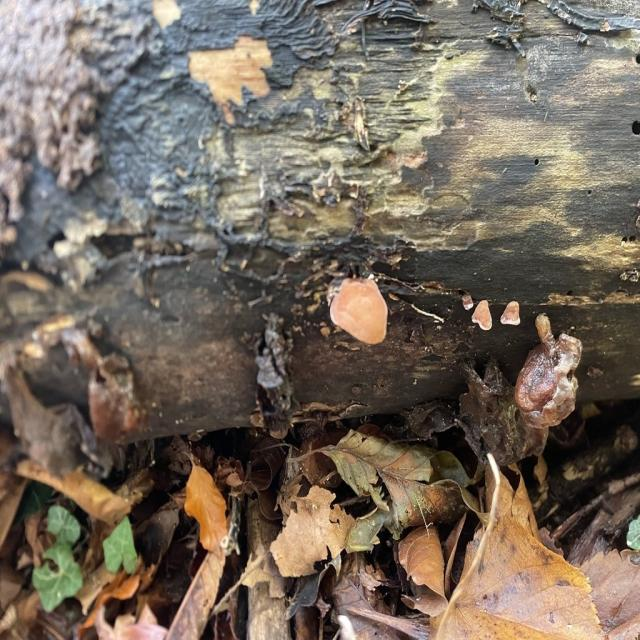Fase Muda: (322, 275, 392, 347)
primordia: (500, 292, 522, 330), (471, 296, 493, 332)
